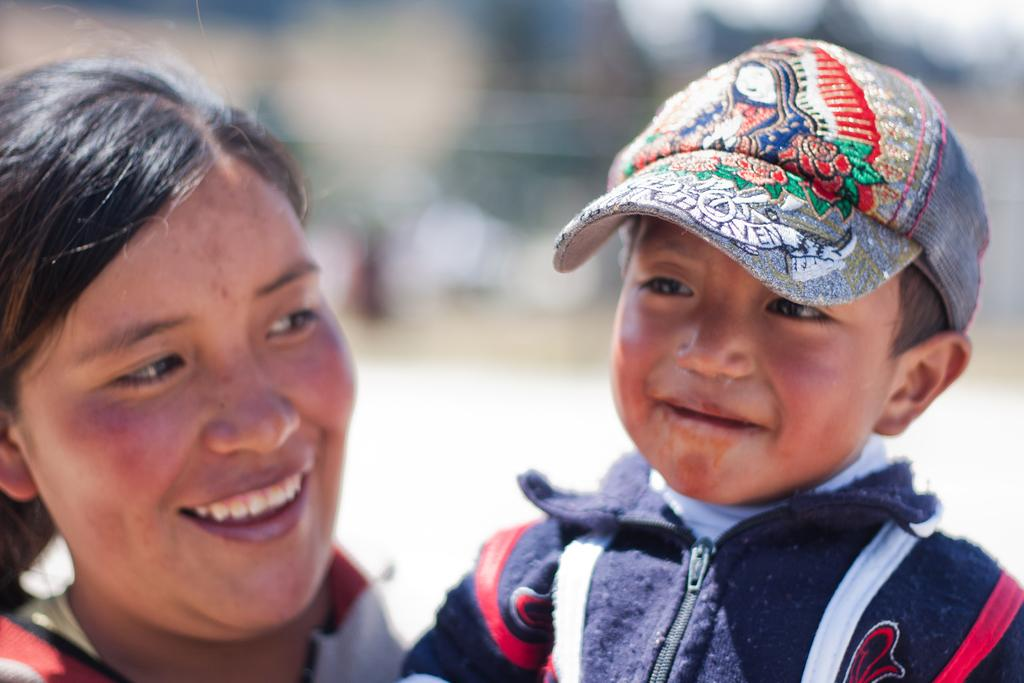Hat: (548, 36, 995, 335)
